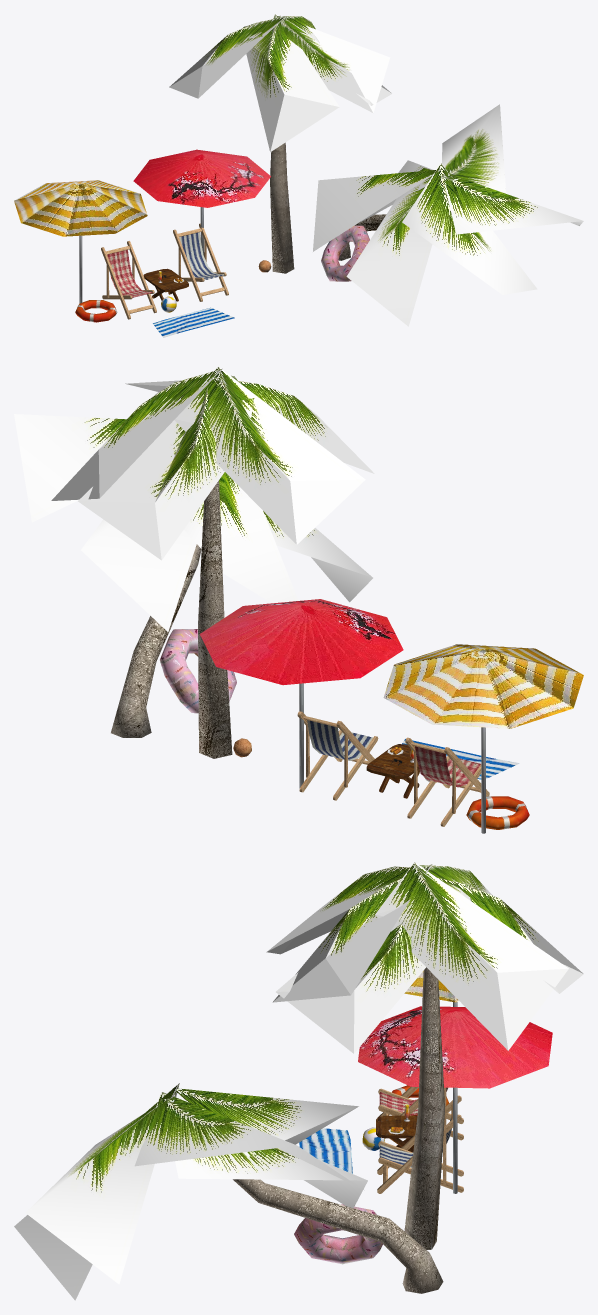
File: beach-pack.glb
3 views of the same model, one above another, from view 1: azimuth 30°, elevation 25°; view 2: azimuth 150°, elevation 25°; view 3: azimuth 270°, elevation 25° (orthographic). The views are drawn at different scales.
Visible parts, largest first — view 1: Palm2, Palm1, Umbrella2, Umbrella1, SunLounger1, SunLounger2, SwimmingRing, Towel, Table, Lifebuoy; view 2: Palm1, Palm2, Umbrella2, Umbrella1, SunLounger1, SunLounger2, SwimmingRing, Lifebuoy, Table, Towel; view 3: Palm1, Palm2, Umbrella1, SwimmingRing, SunLounger2, Towel, SunLounger1, Table.
Boxes of the visible parts, x1,y1,x2,y2 form: Palm2: (313, 104, 583, 326); Palm1: (169, 14, 391, 273); Umbrella2: (14, 180, 147, 303); Umbrella1: (133, 149, 270, 255); SunLounger1: (101, 241, 156, 319); SunLounger2: (173, 223, 228, 301); SwimmingRing: (321, 225, 369, 281); Towel: (153, 307, 234, 337); Table: (143, 268, 188, 301); Lifebuoy: (75, 300, 117, 322); Palm1: (51, 366, 374, 758); Palm2: (14, 392, 372, 737); Umbrella2: (383, 644, 583, 833); Umbrella1: (199, 599, 403, 788); SunLounger1: (405, 737, 489, 826); SunLounger2: (297, 711, 378, 800); SwimmingRing: (160, 629, 236, 713); Lifebuoy: (466, 796, 529, 829); Table: (366, 744, 419, 798); Towel: (402, 739, 519, 779); Palm1: (266, 862, 583, 1249); Palm2: (14, 1083, 443, 1300); Umbrella1: (358, 1006, 552, 1193); SwimmingRing: (294, 1204, 382, 1264); SunLounger2: (377, 1095, 463, 1193); Towel: (299, 1128, 352, 1173); SunLounger1: (377, 1086, 463, 1140); Table: (376, 1115, 417, 1152).
Size of the model in its own units: 10.47 by 5.72 by 7.75.
Materials: 15 (14 with a texture image).
